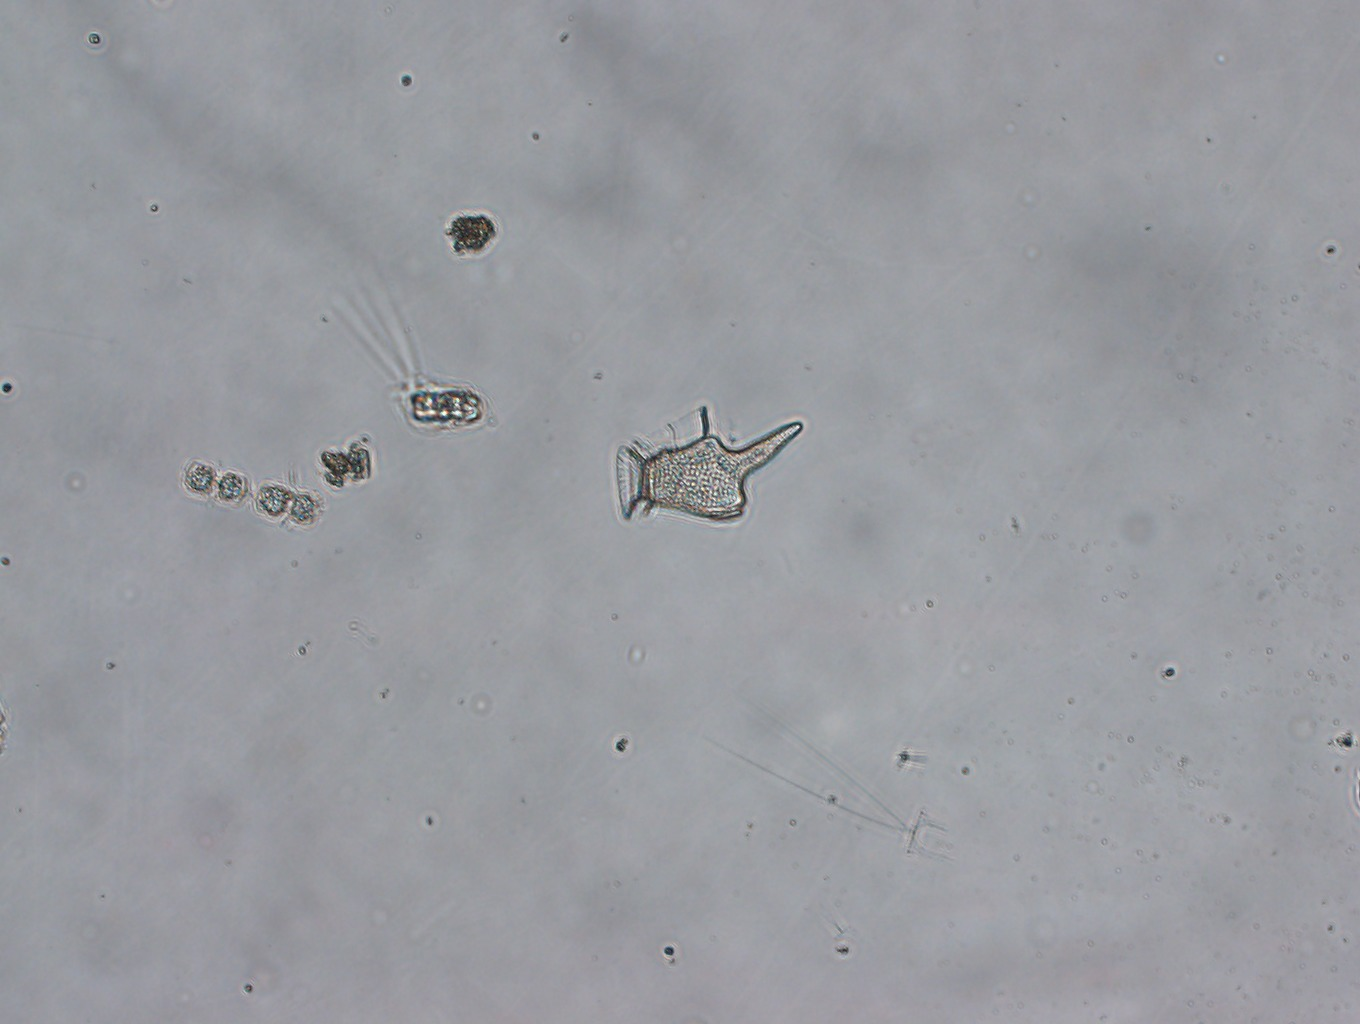chaetoceros: (180, 447, 329, 536)
dinophysis caudata: (612, 400, 805, 529)
